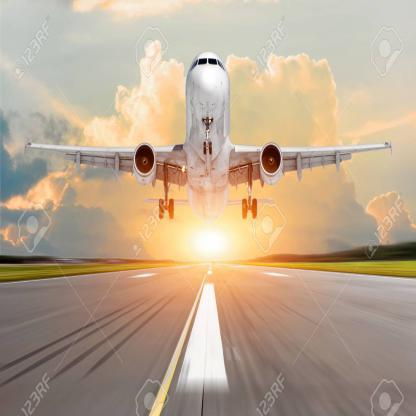CIV_Plane: (17, 47, 403, 238)
